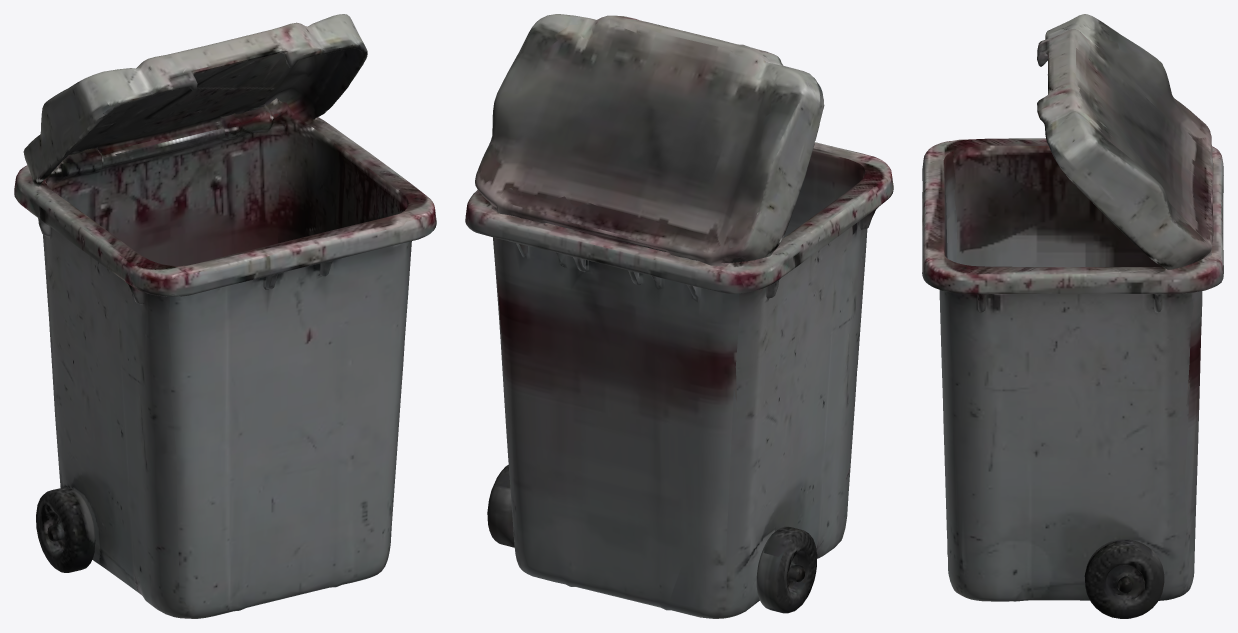
The model's file is offal-bin.glb.
3 views of the same model, side by side, from view 1: azimuth 30°, elevation 25°; view 2: azimuth 150°, elevation 25°; view 3: azimuth 270°, elevation 25° (orthographic). The views are drawn at different scales.
Visible parts, largest first — view 1: cowninja-offal-bin; view 2: cowninja-offal-bin; view 3: cowninja-offal-bin.
Part boxes in pixels (bbox=[...]): cowninja-offal-bin: bbox=[14, 14, 436, 618]; cowninja-offal-bin: bbox=[465, 14, 893, 618]; cowninja-offal-bin: bbox=[922, 14, 1223, 618].
Bounding box in the file's own units: 0.6686 × 1.1 × 0.6125.
1 material, 1 textured.
